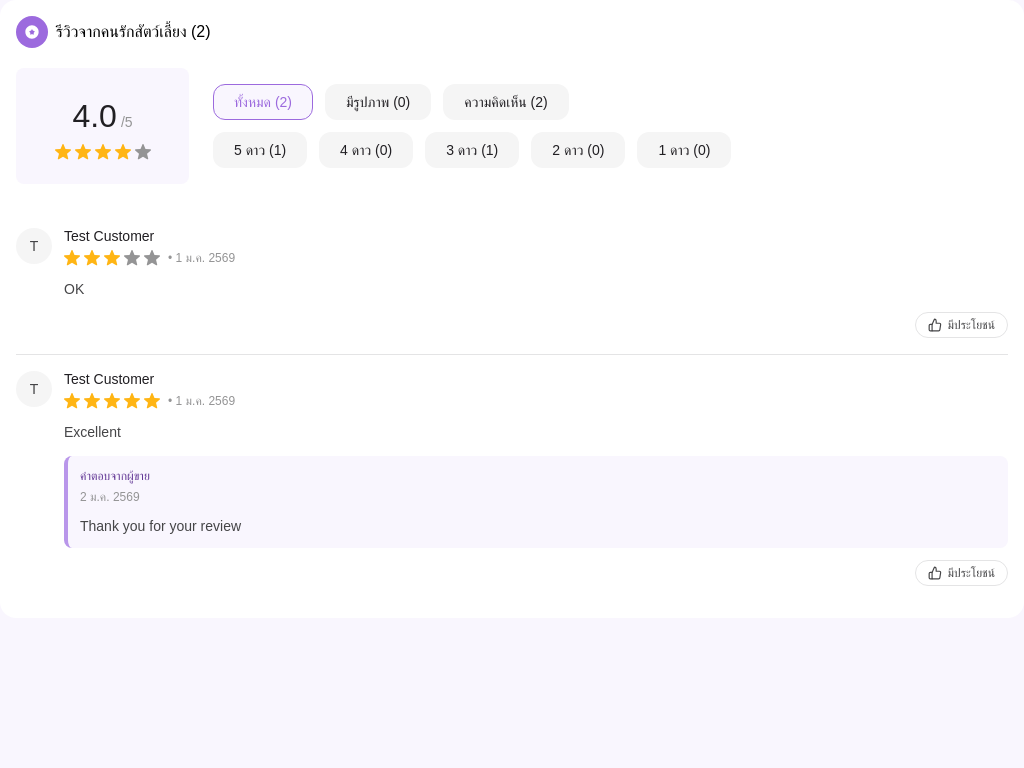
Test: ProductDetailsSellerReviews › keeps reply paired with review after filter change
The width and height of the screenshot is (1024, 768).
Click the button "5 ดาว (1)" at [260, 150], box [213,132,307,168]
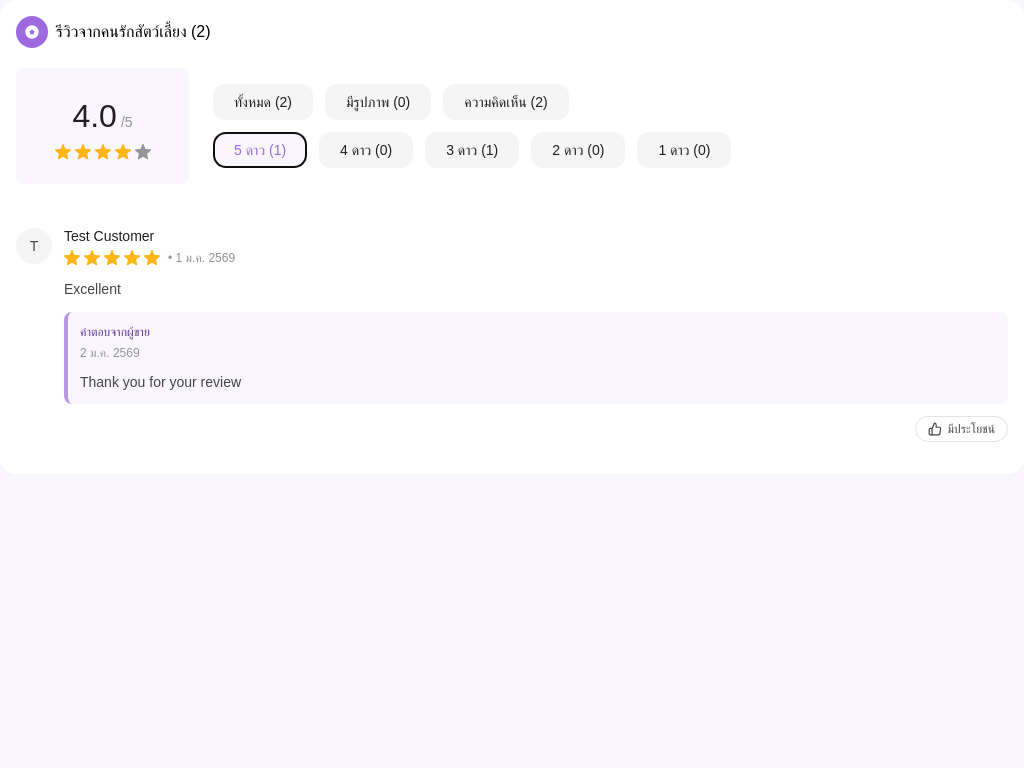
Result: the element with test id "product-review-item-review-a" is gone
